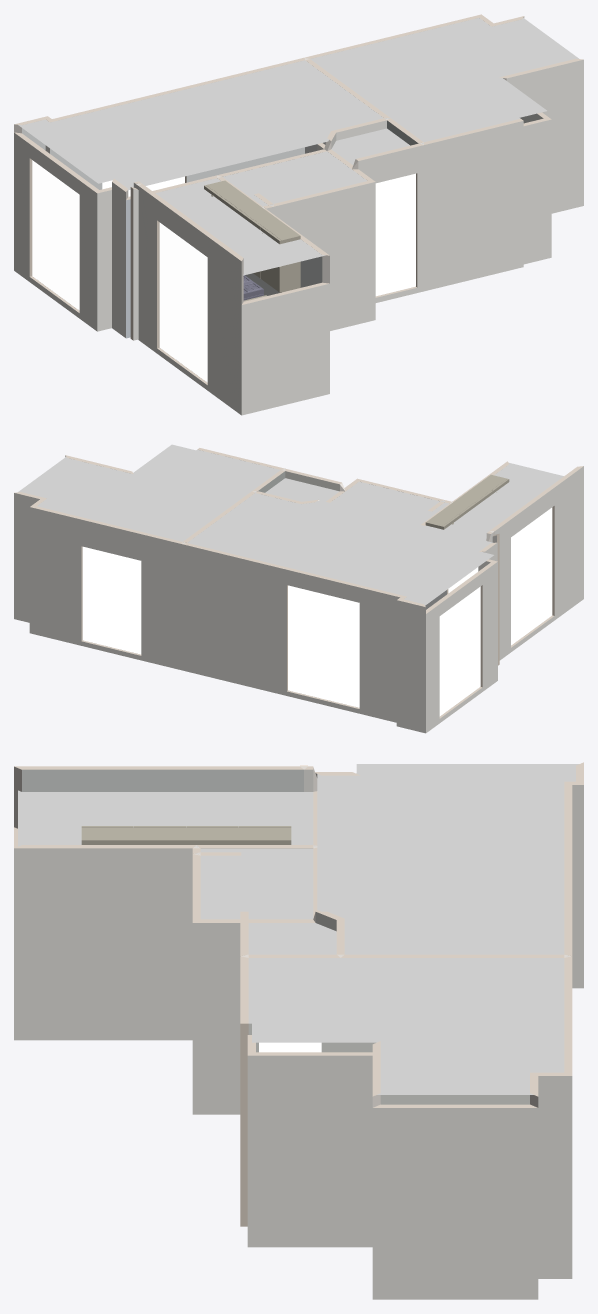
Rendered from nisantasi-1p1.glb.
3 views of the same model, one above another, from view 1: azimuth 30°, elevation 25°; view 2: azimuth 150°, elevation 25°; view 3: azimuth 270°, elevation 25° (orthographic). The views are drawn at different scales.
Parts seen in each view (by area): view 1: Ceiling_Other_1_1, Ceiling_Other_2_1, Wall_8, Wall_30, Wall_13, Wall_33, Wall_15, Wall_10, Door_7, Door_2, Ceiling_Kitchen, Door_5 (+15 smaller); view 2: Wall_6, Ceiling_Other_1_1, Wall_18, Ceiling_Other_2_1, Door_1, Wall_30, Door_4, Wall_15, Door_7, Door_2, Wall_12, Ceiling_Kitchen (+6 smaller); view 3: Ceiling_Other_1_1, Wall_27, Wall_31, Ceiling_Other_2_1, Wall_5, Ceiling_Kitchen, Wall_23, Ceiling_Bathroom_0, Wall_30, Wall_0, storage_cabinet_mid4_0, Ceiling_Other_2_0 (+7 smaller).
Part boxes in pixels (<box>): Ceiling_Other_1_1: <box>22,60,387,190</box>; Ceiling_Other_2_1: <box>321,18,578,143</box>; Wall_8: <box>424,118,523,291</box>; Wall_30: <box>138,184,243,415</box>; Wall_13: <box>241,282,329,415</box>; Wall_33: <box>273,181,375,330</box>; Wall_15: <box>14,132,99,331</box>; Wall_10: <box>499,58,583,213</box>; Door_7: <box>159,222,207,382</box>; Door_2: <box>32,160,79,310</box>; Ceiling_Kitchen: <box>155,178,325,275</box>; Door_5: <box>375,173,415,296</box>; Wall_6: <box>182,543,406,722</box>; Ceiling_Other_1_1: <box>187,492,493,602</box>; Wall_18: <box>29,506,182,670</box>; Ceiling_Other_2_1: <box>18,444,280,534</box>; Door_1: <box>288,585,359,707</box>; Wall_30: <box>490,466,583,660</box>; Door_4: <box>82,546,141,654</box>; Wall_15: <box>426,561,497,732</box>; Door_7: <box>511,507,552,645</box>; Door_2: <box>439,586,480,716</box>; Wall_12: <box>396,599,425,733</box>; Ceiling_Kitchen: <box>425,463,563,540</box>; Ceiling_Other_1_1: <box>317,764,568,955</box>; Wall_27: <box>14,845,195,1040</box>; Wall_31: <box>372,1104,538,1299</box>; Ceiling_Other_2_1: <box>248,958,533,1094</box>; Wall_5: <box>247,1052,372,1247</box>; Ceiling_Kitchen: <box>18,790,316,846</box>; Wall_23: <box>192,919,240,1114</box>; Ceiling_Bathroom_0: <box>198,854,313,919</box>; Wall_30: <box>14,766,303,791</box>; Wall_0: <box>531,1072,572,1278</box>; storage_cabinet_mid4_0: <box>81,826,291,844</box>; Ceiling_Other_2_0: <box>534,956,567,1072</box>.
Bounding box in the file's own units: 9.8 × 2.92 × 7.06.
23 materials, 11 textured.
